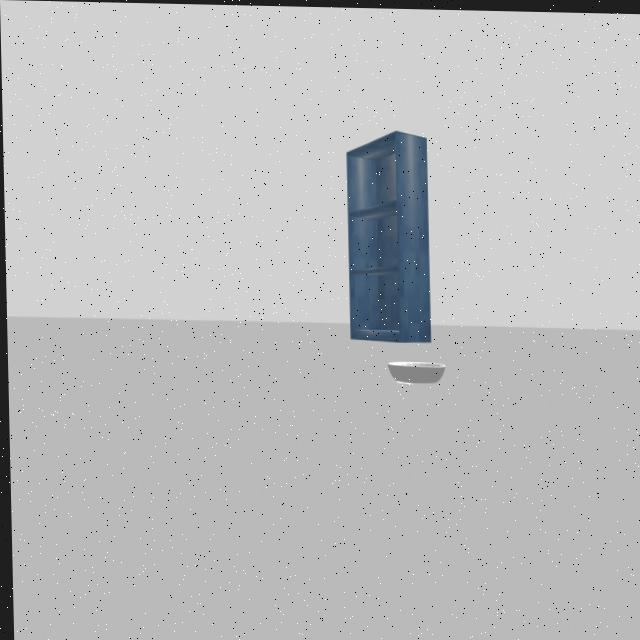bowl: (381, 355, 453, 388)
shelf: (346, 123, 431, 350)
